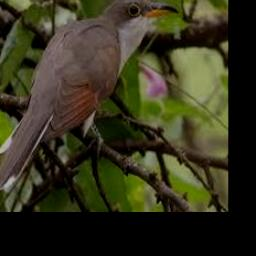Cuckoo: (0, 0, 179, 193)
